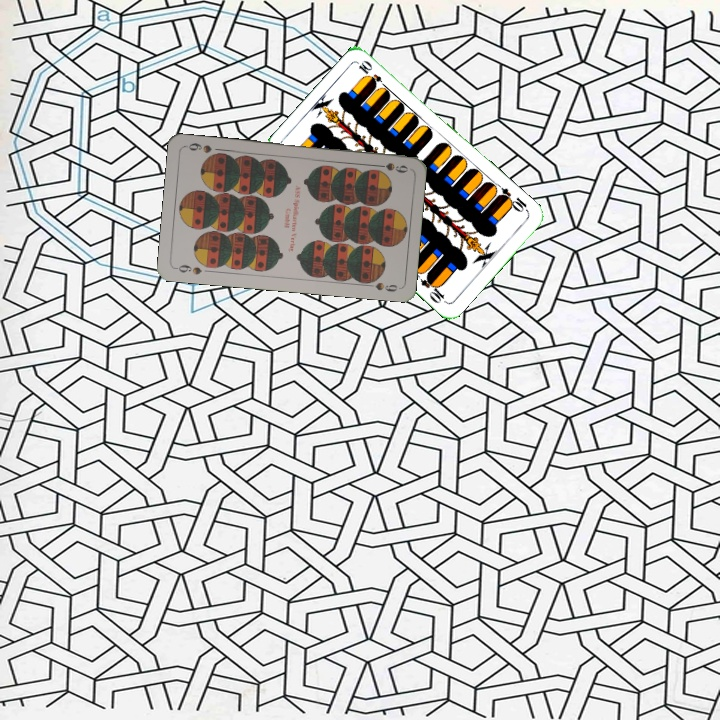E10: (494, 184, 531, 215)
S9: (370, 159, 410, 176), (171, 261, 204, 277)
